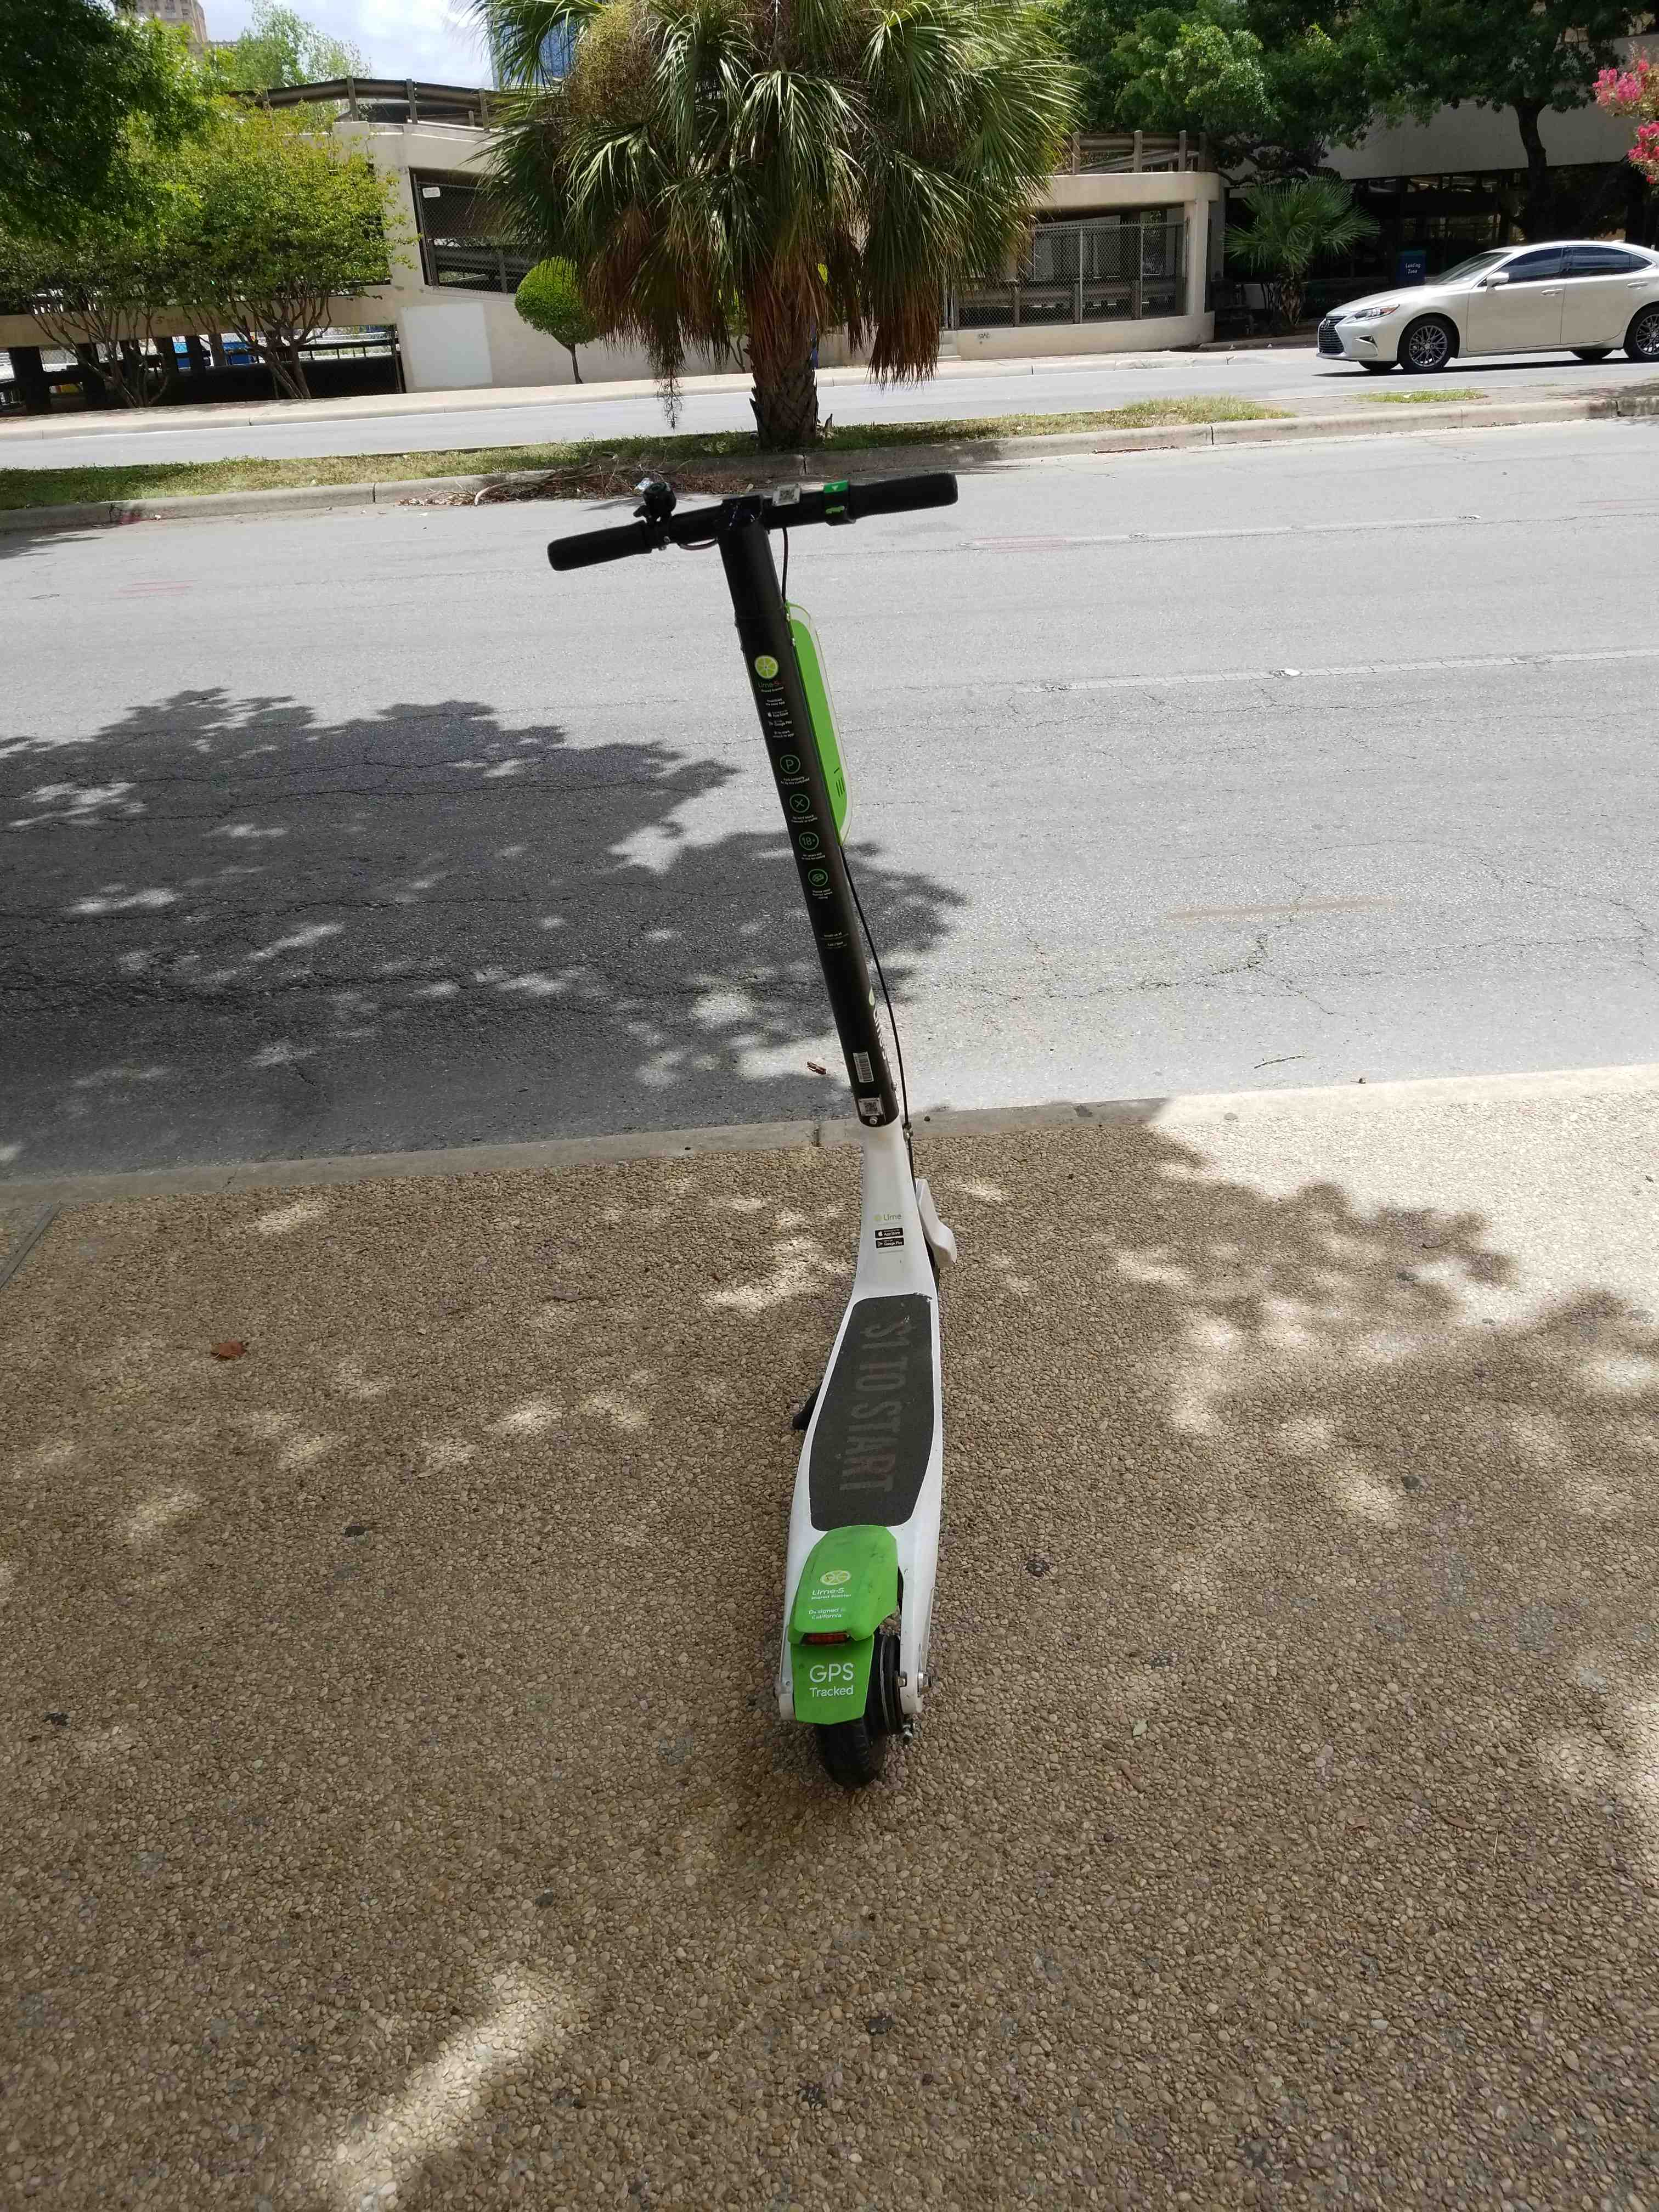scooter: (518, 484, 1058, 1768)
